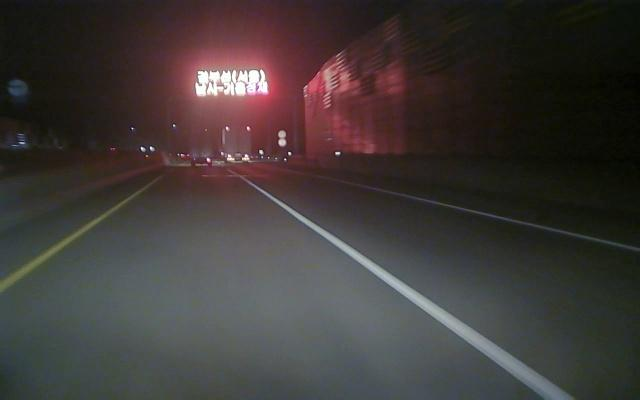lane: (249, 181, 577, 399), (330, 178, 640, 253), (1, 187, 147, 291)
